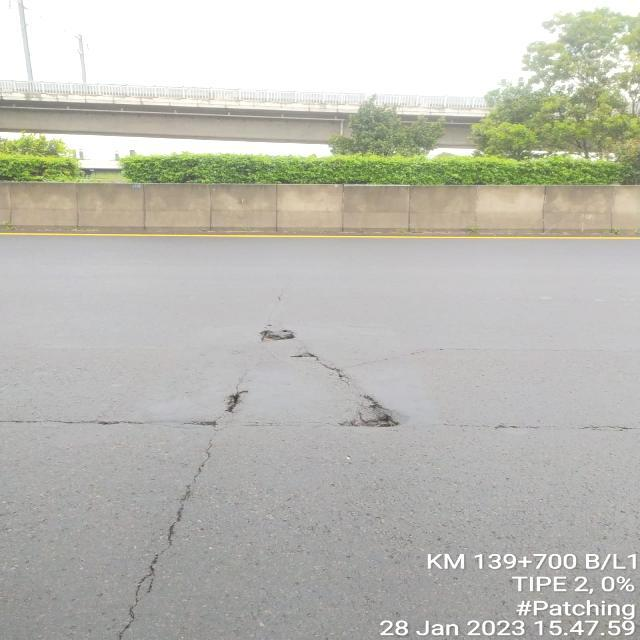Buraco: (288, 349, 355, 388), (336, 393, 404, 430), (222, 388, 251, 416), (255, 328, 301, 345)
